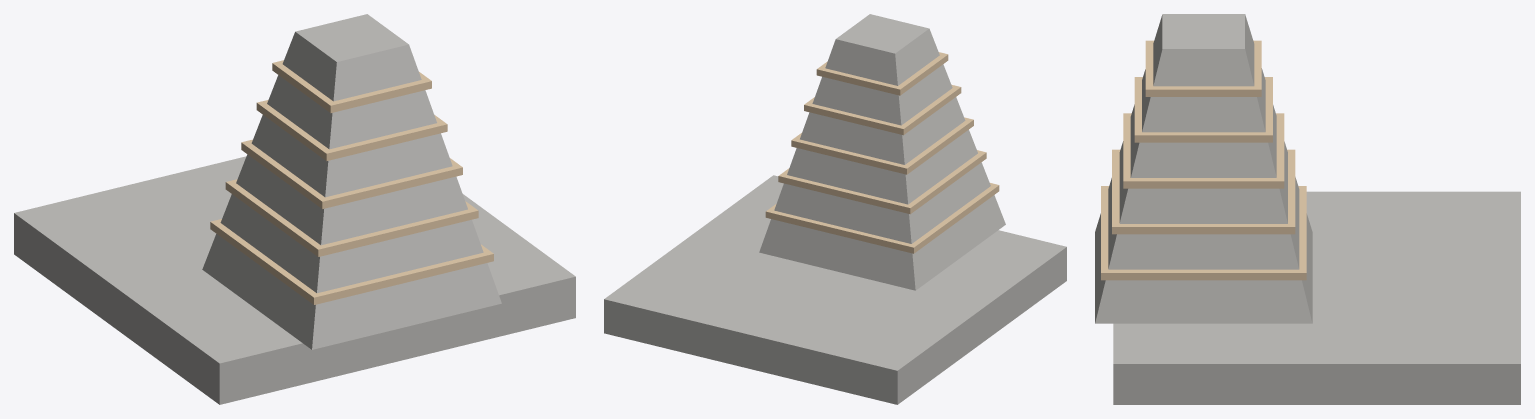
File: dravidian_s2.glb
3 renders of one model, left to right at view 1: azimuth 30°, elevation 25°; view 2: azimuth 150°, elevation 25°; view 3: azimuth 270°, elevation 25°, orthographic. The views are drawn at different scales.
Visible parts, largest first — view 1: dravidian; view 2: dravidian; view 3: dravidian.
Boxes of the visible parts, x1,y1,x2,y2 form: dravidian: (14, 14, 575, 404); dravidian: (604, 14, 1066, 404); dravidian: (1095, 14, 1520, 404).
Bounding box in the file's own units: 12.86 × 10 × 13.43.
